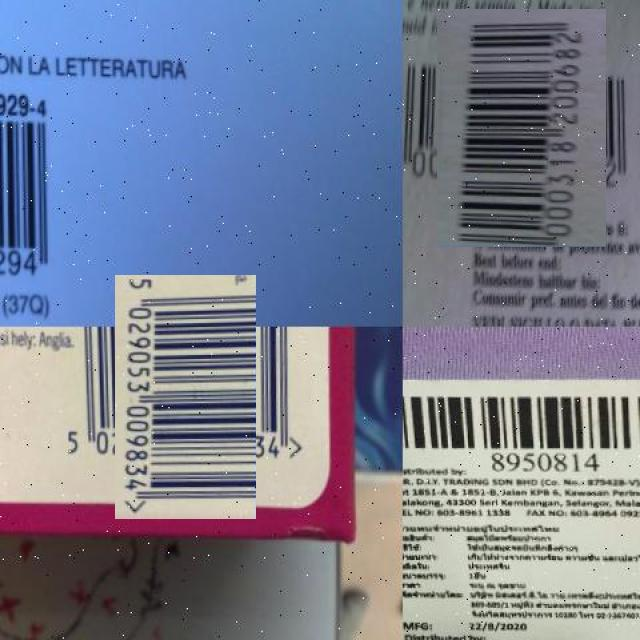Barcode: (419, 26, 623, 230), (89, 301, 282, 494), (402, 382, 640, 476), (0, 86, 72, 290)
